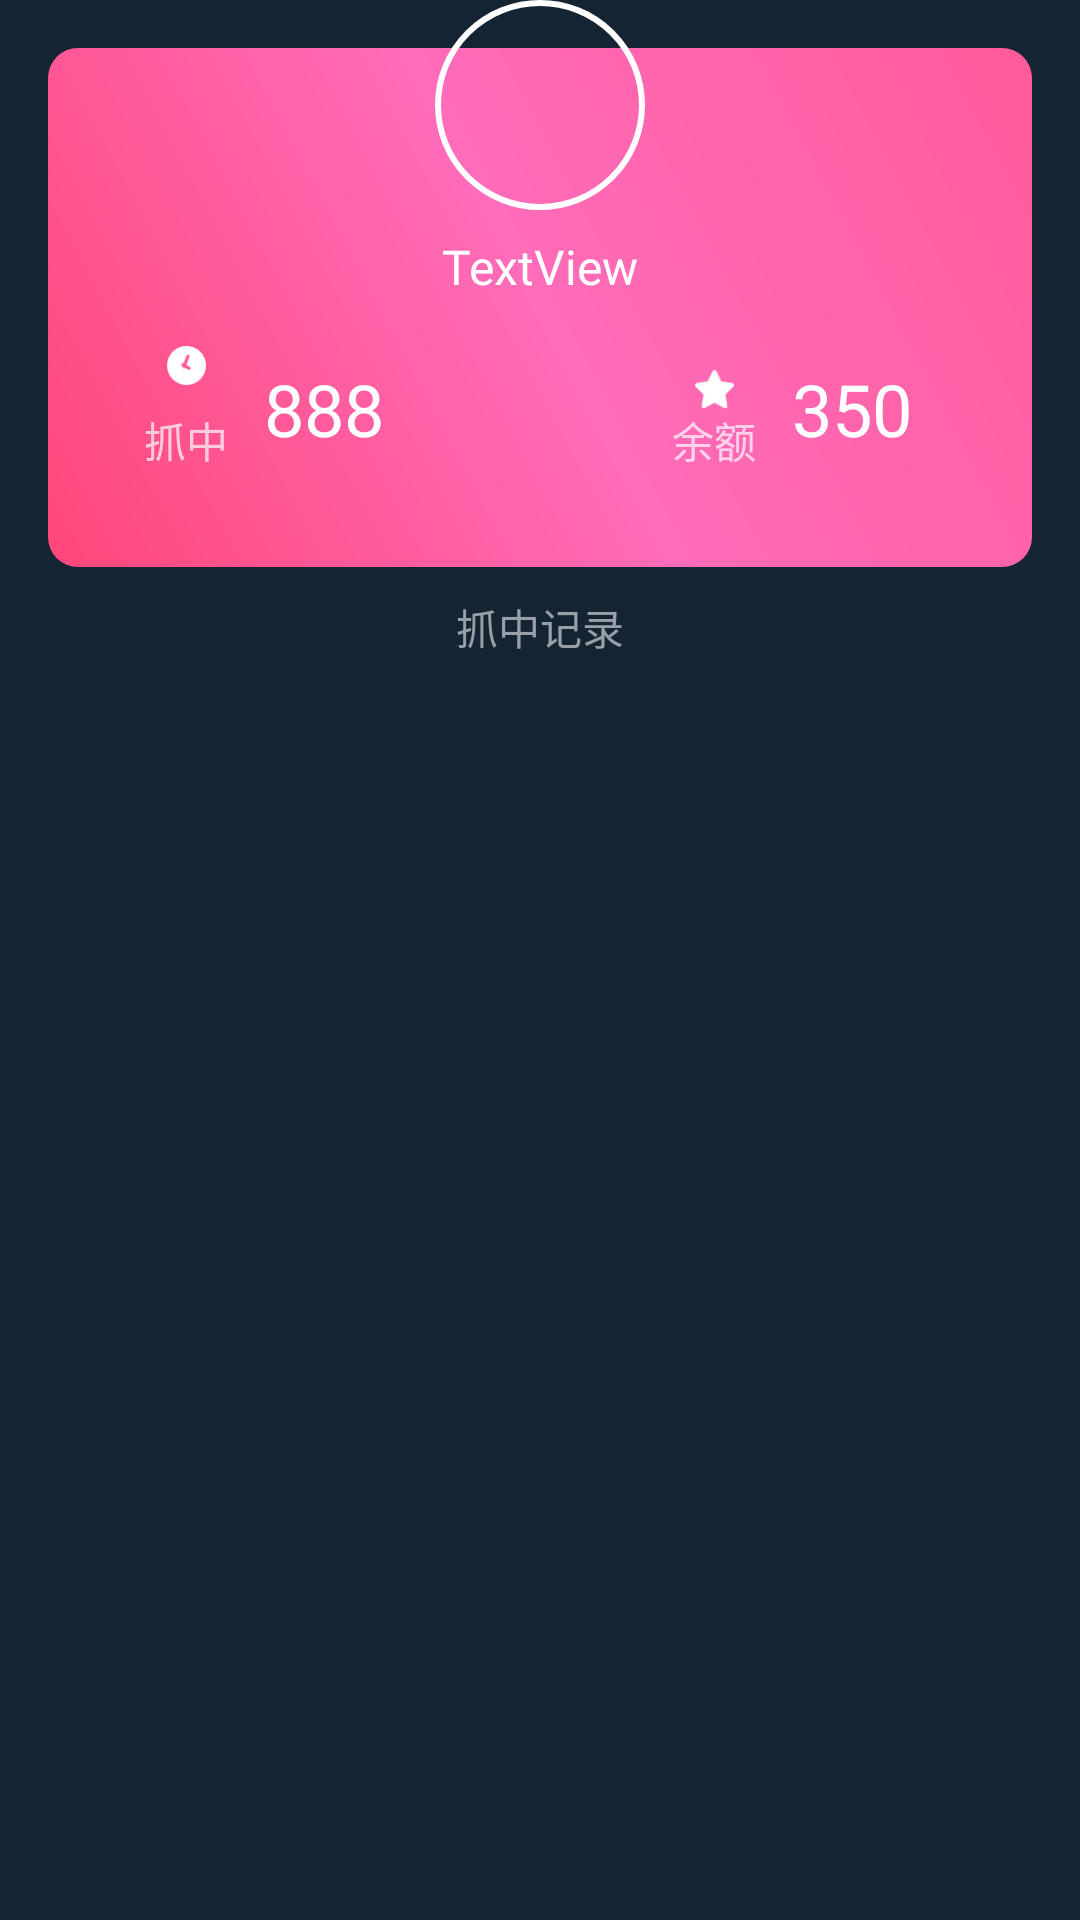

Screen size 1080 x 1920. Icon name, then its center in pixels as (x=x, y=y):
star: (x=714, y=389)
time: (x=186, y=365)
